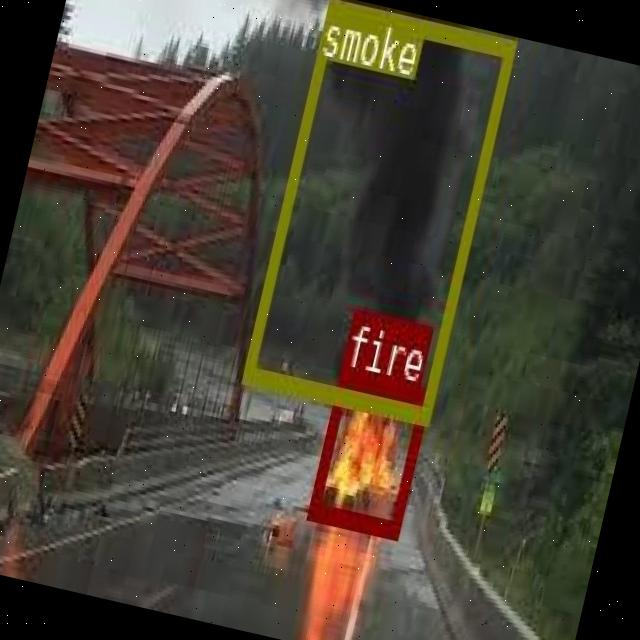fire: (308, 366, 430, 534)
smoke: (240, 0, 515, 420)
